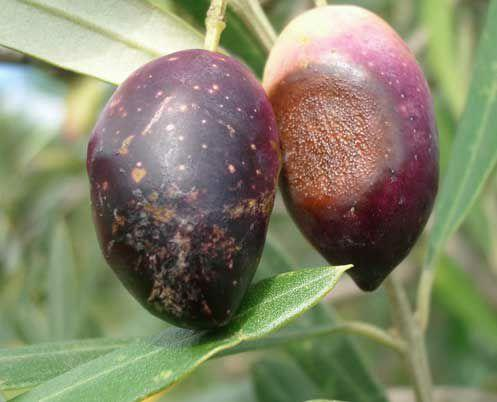Anthracnose: (76, 70, 278, 329), (272, 39, 429, 292)
